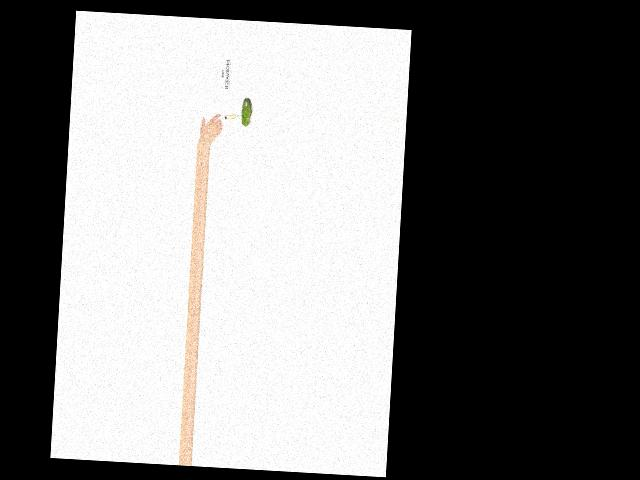cucumber: (240, 97, 252, 127)
